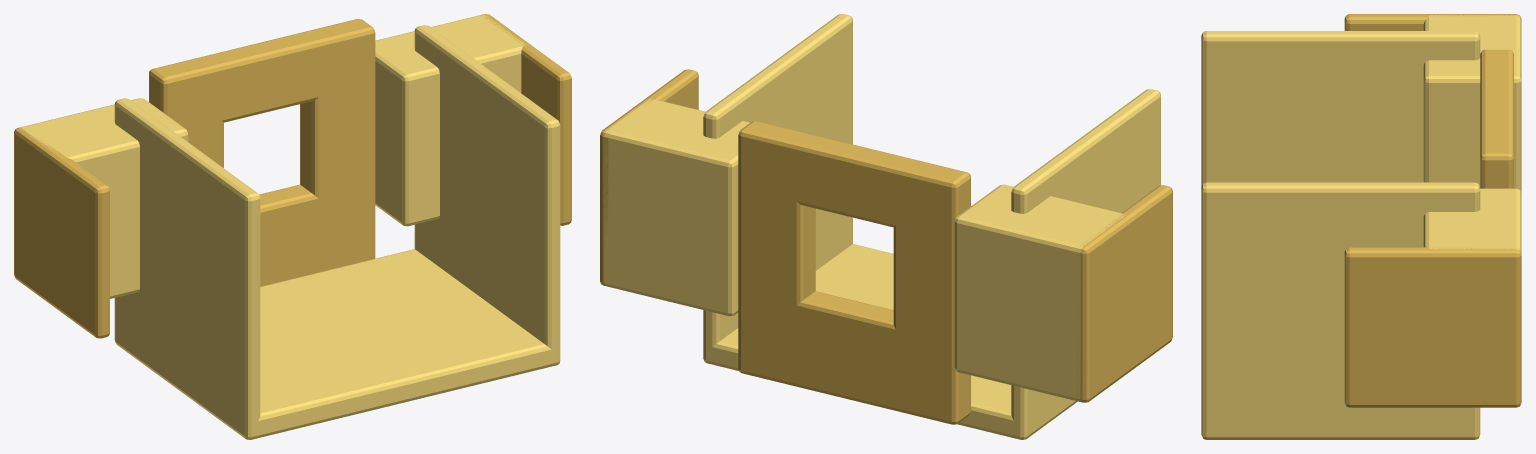
The model's file is gold_chestplate_held.gltf.
3 renders of one model, left to right at view 1: azimuth 30°, elevation 25°; view 2: azimuth 150°, elevation 25°; view 3: azimuth 270°, elevation 25°, orthographic. The views are drawn at different scales.
Parts seen in each view (by area): view 1: armor_gold_chestplate_held; view 2: armor_gold_chestplate_held; view 3: armor_gold_chestplate_held.
Boxes of the visible parts, x1,y1,x2,y2 form: armor_gold_chestplate_held: (14,14,571,439); armor_gold_chestplate_held: (600,14,1172,439); armor_gold_chestplate_held: (1201,14,1521,439).
Bounding box in the file's own units: 0.2 × 0.1053 × 0.1124.
